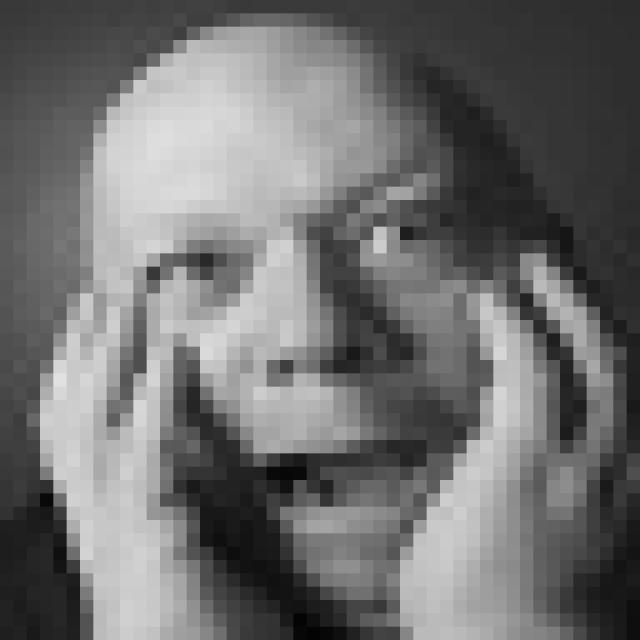fear: (125, 131, 499, 575)
